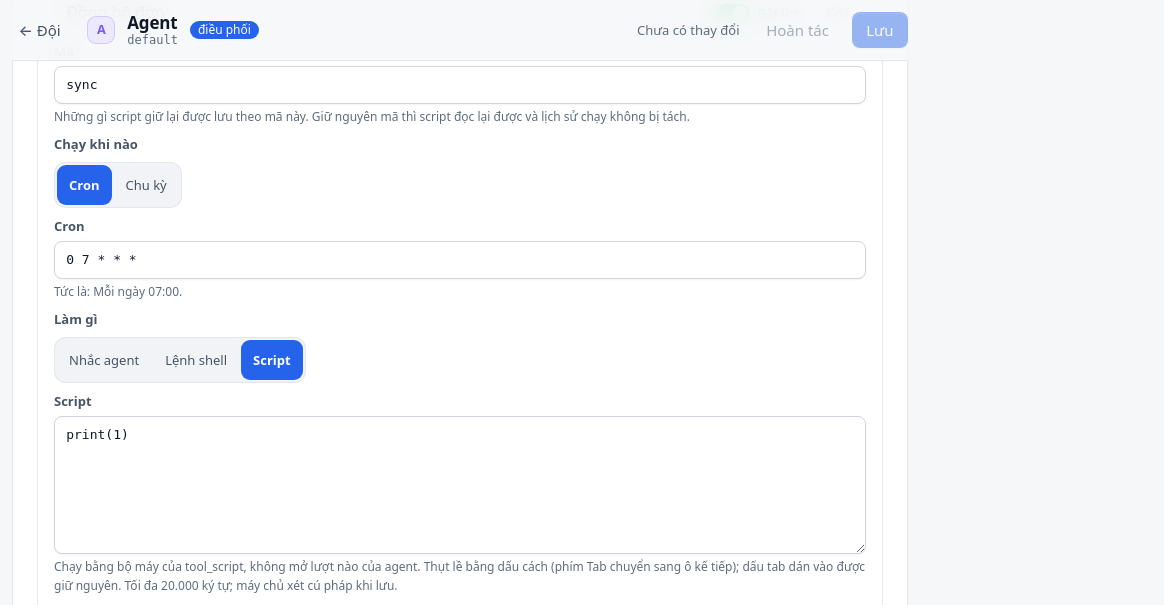
Test: switching what a schedule does › leaves nothing to save once a script is switched round and back
The width and height of the screenshot is (1164, 605).
(page scrolled)
Click the button "Nhắc agent".
click(104, 360)  # box [57, 340, 151, 380]
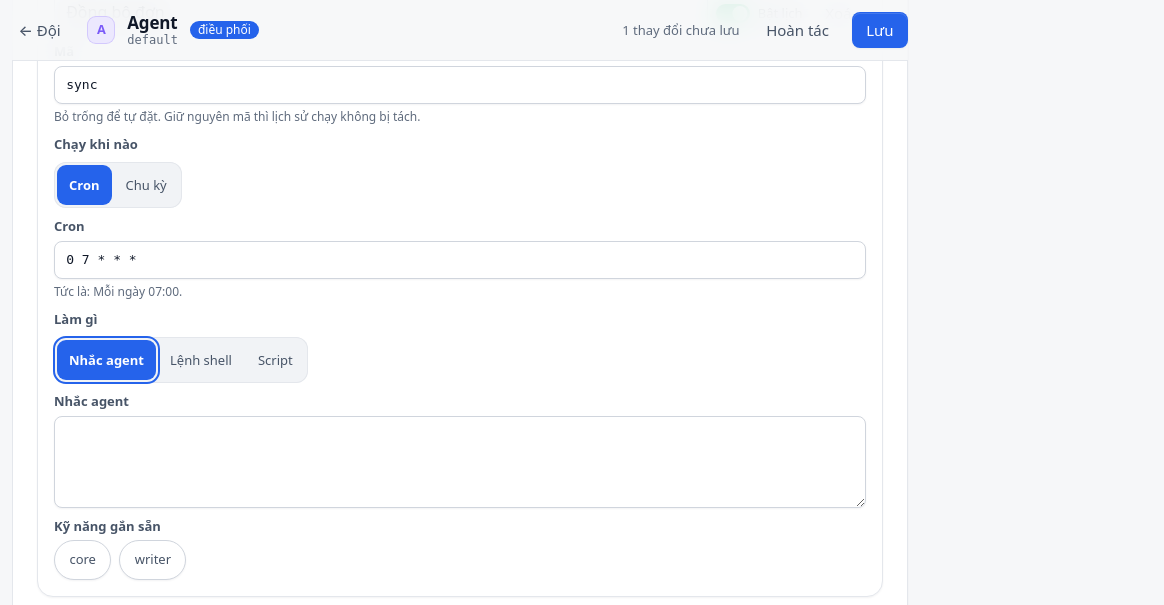
Click the button "Lệnh shell".
click(201, 360)  # box [158, 340, 244, 380]
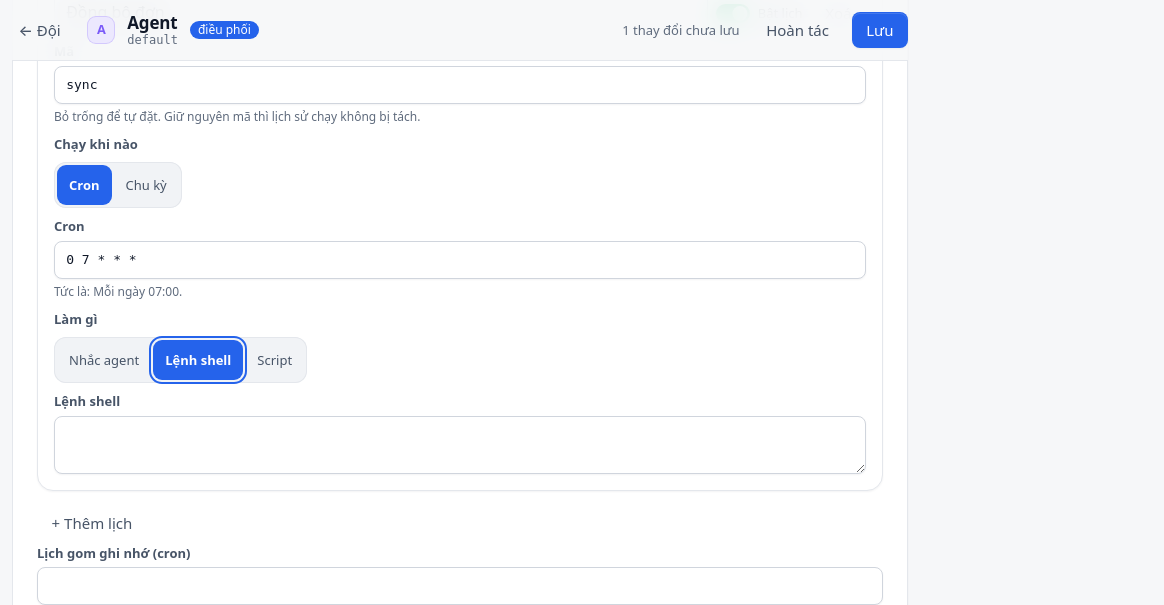
Click the button "Script".
click(275, 360)  # box [245, 340, 304, 380]
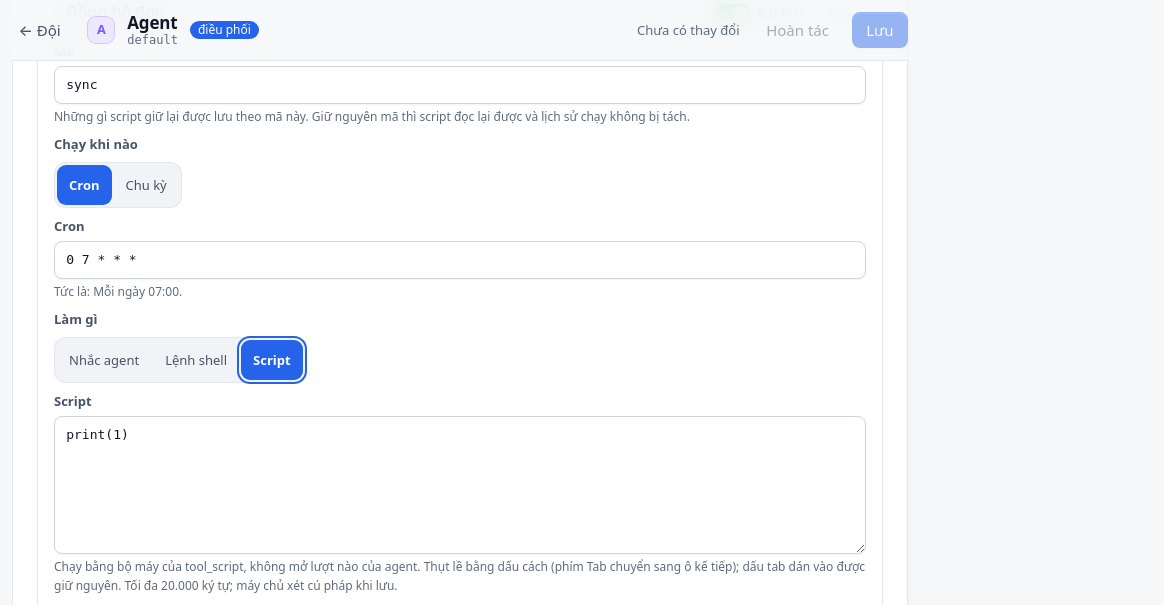
Click the button "Nhắc agent".
click(104, 360)  # box [57, 340, 151, 380]
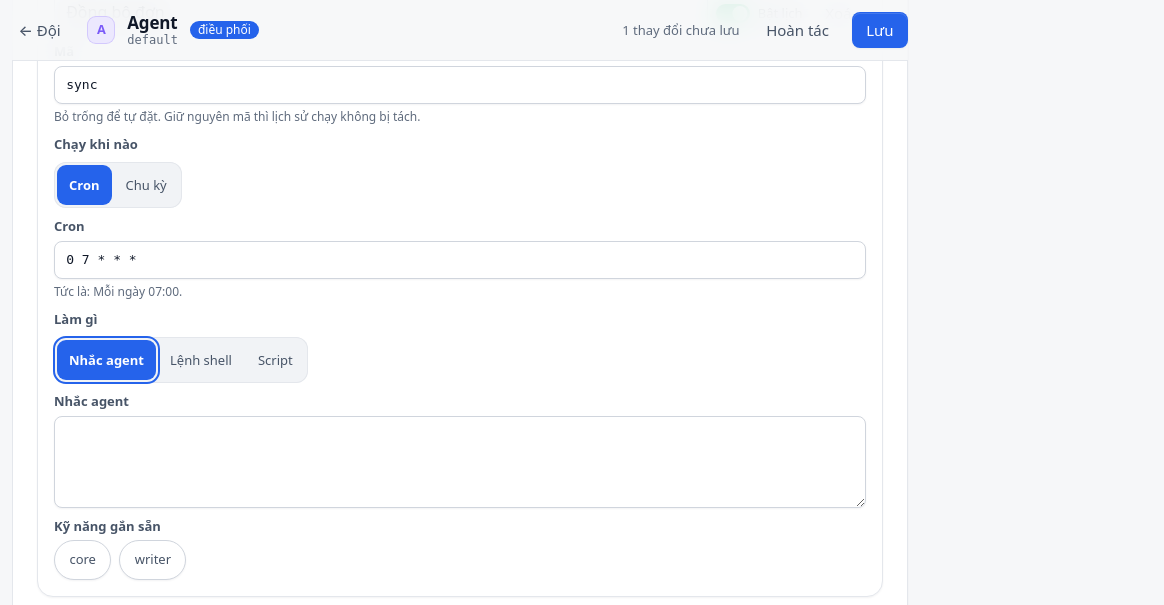
Click the button "Script".
click(275, 360)  # box [246, 340, 305, 380]
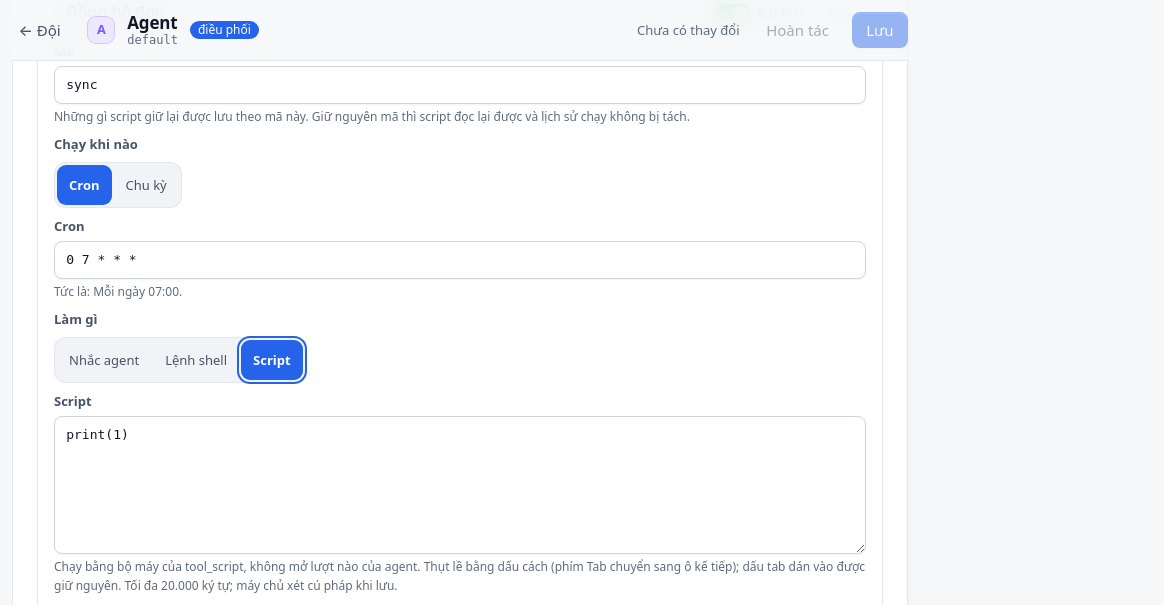
Now the text "Chưa có thay đổi" is shown, box [637, 20, 740, 40]
Now the button "Lưu" is disabled, box [852, 12, 908, 48]
